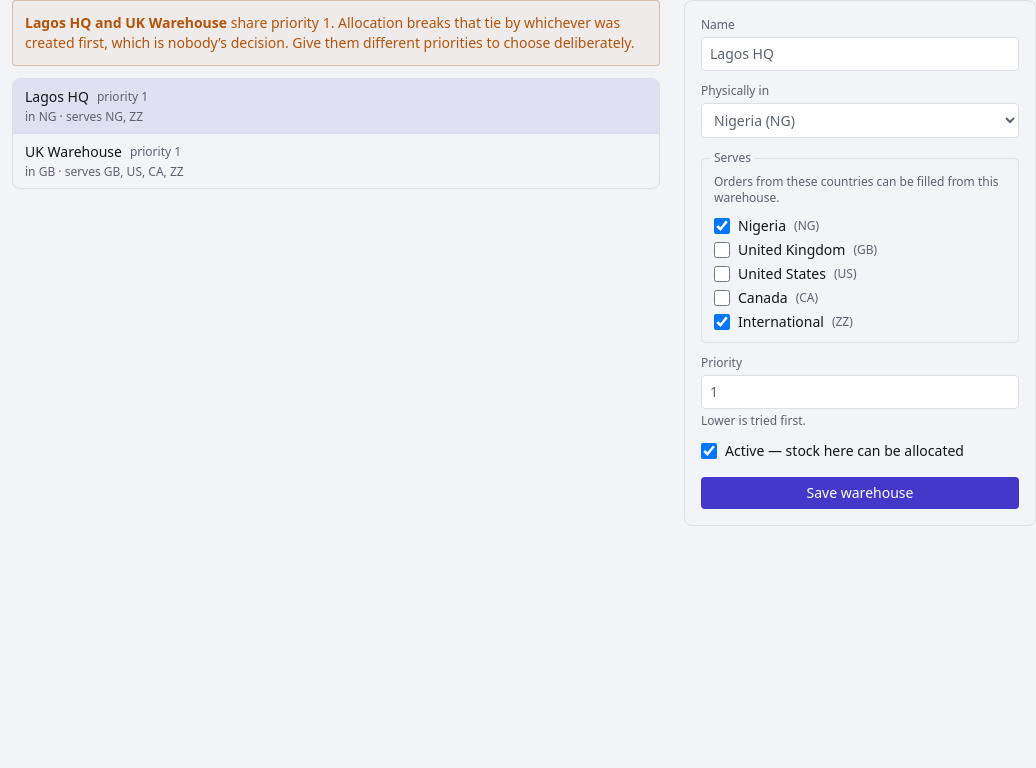
Test case: WarehouseManager › lets the operator back out, sending nothing
The width and height of the screenshot is (1036, 768).
Click the checkbox labelled "Nigeria (NG)" at [722, 226], box [714, 218, 730, 234]
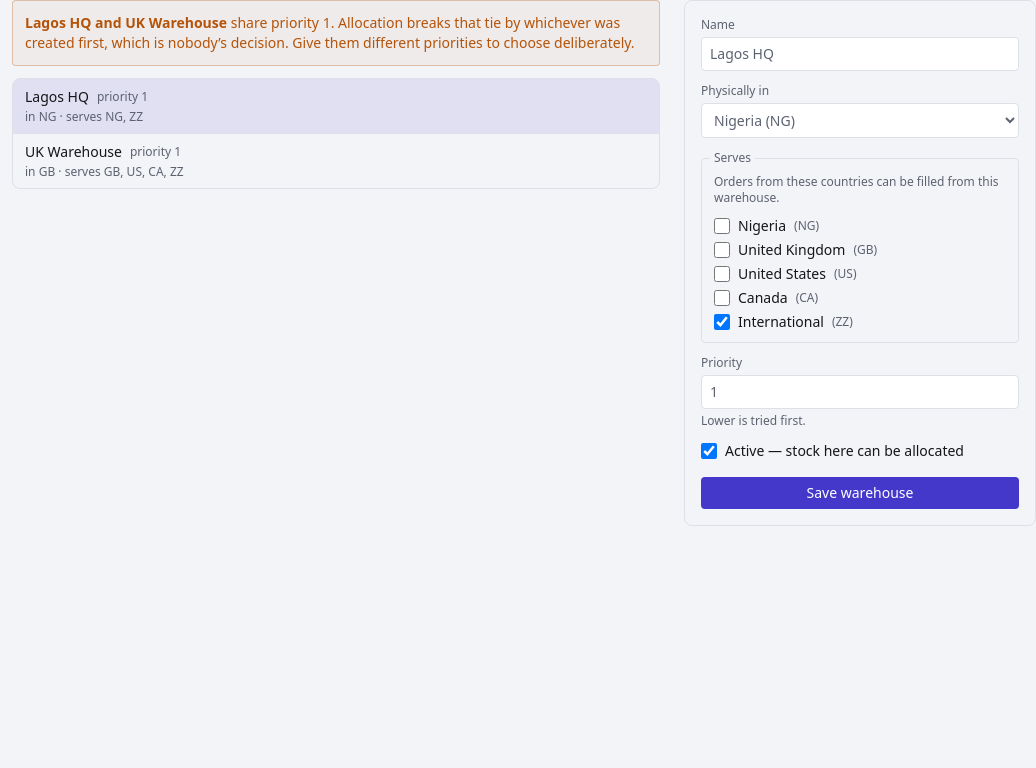
Click the button "Save warehouse" at [860, 493], box [701, 477, 1019, 509]
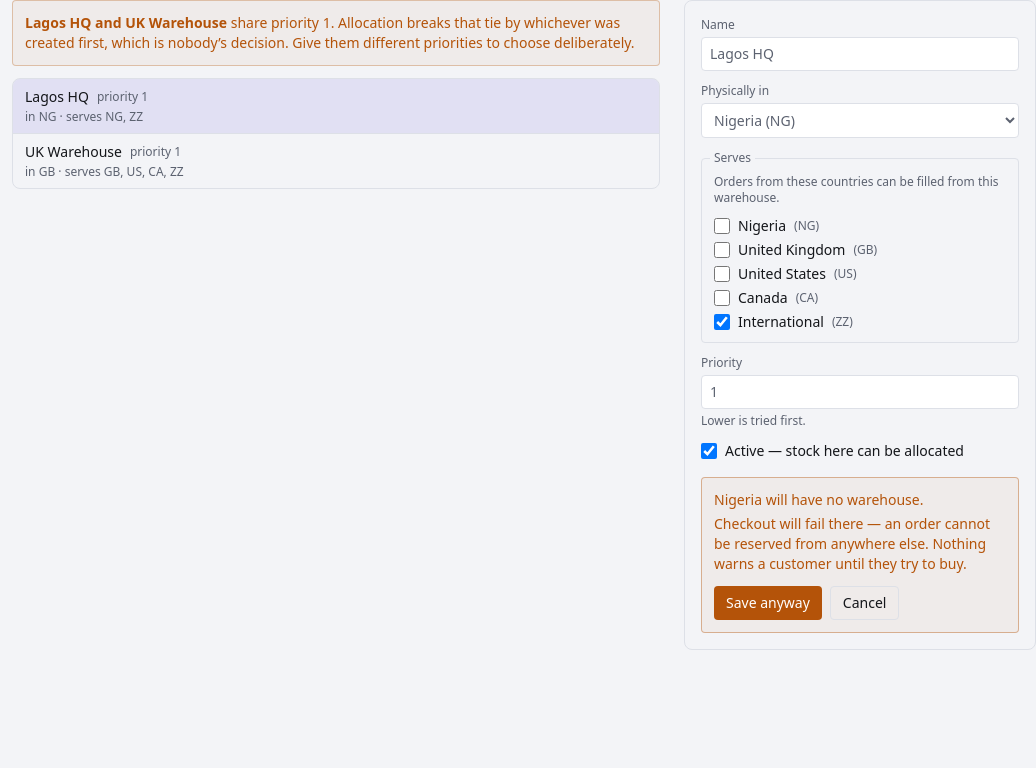
Click the button "Cancel" at [865, 603], box [830, 586, 899, 620]
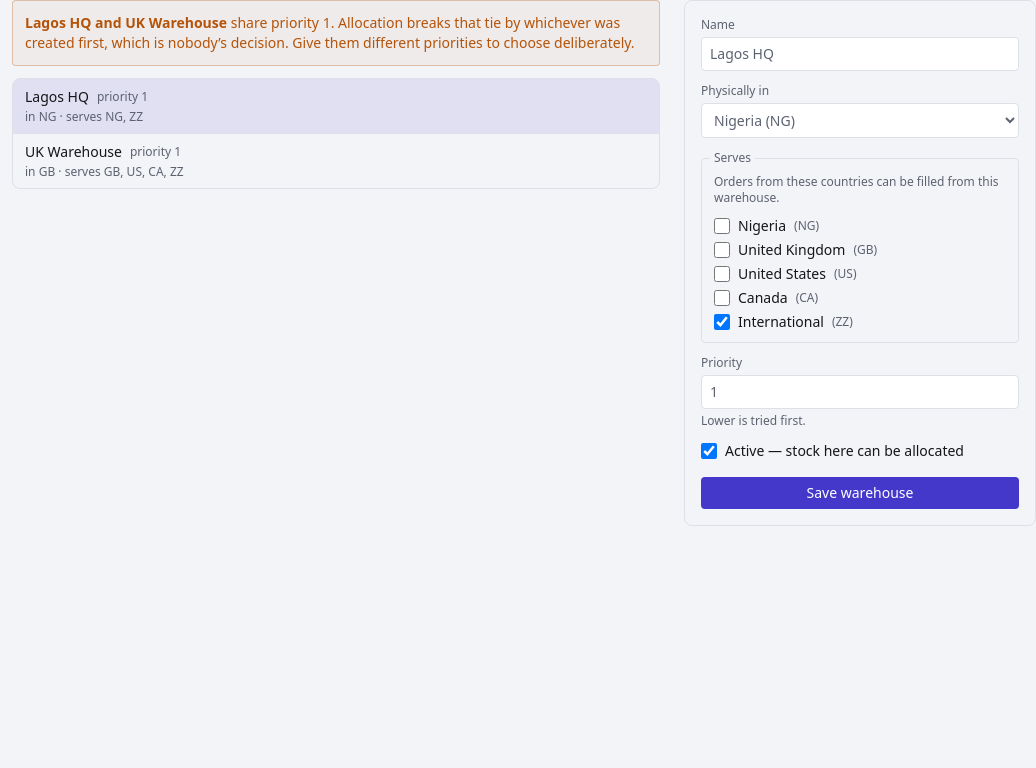
Now the text "Nigeria will have no warehouse." is gone
